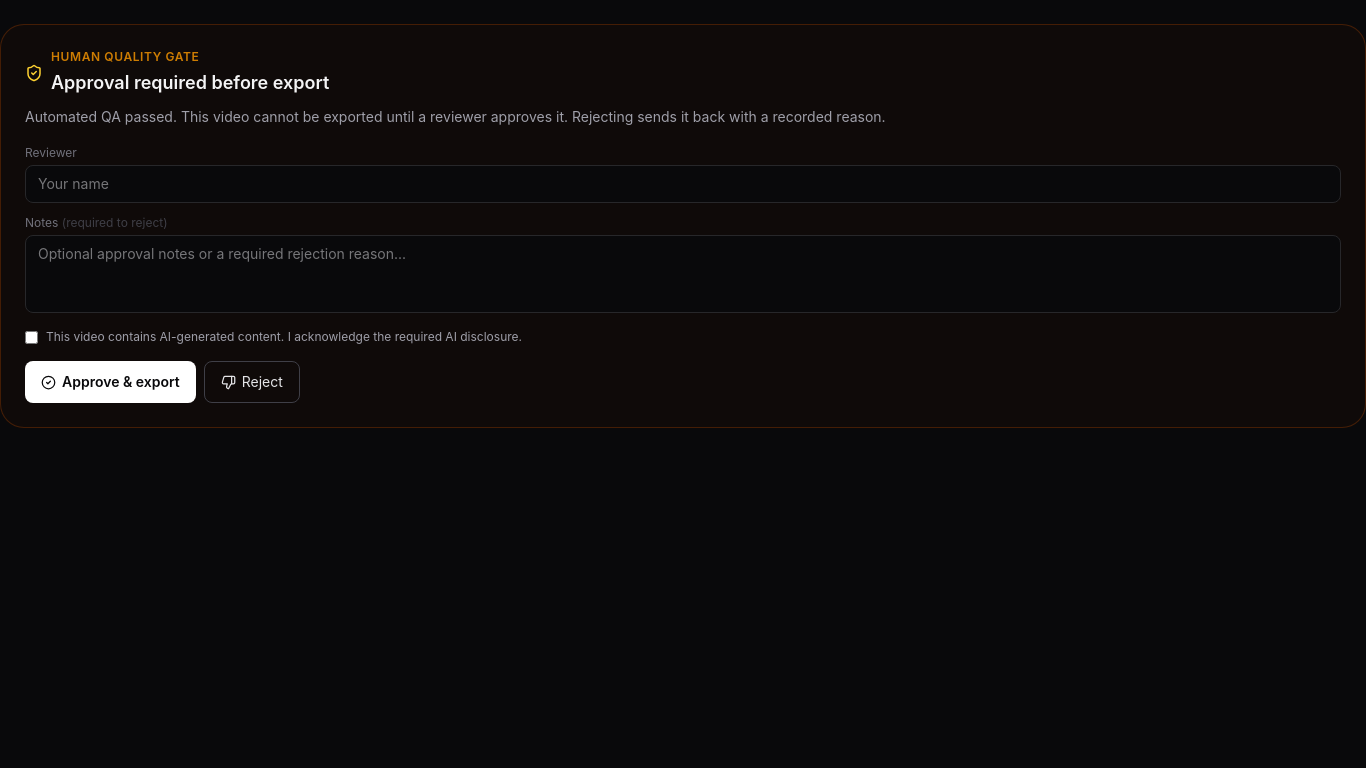
Test: ApprovalPanel › requires the AI disclosure to be acknowledged before approving
Type "Alex" into the field with placeholder "Your name" at (683, 184), box x1=25 y1=165 x2=1341 y2=203
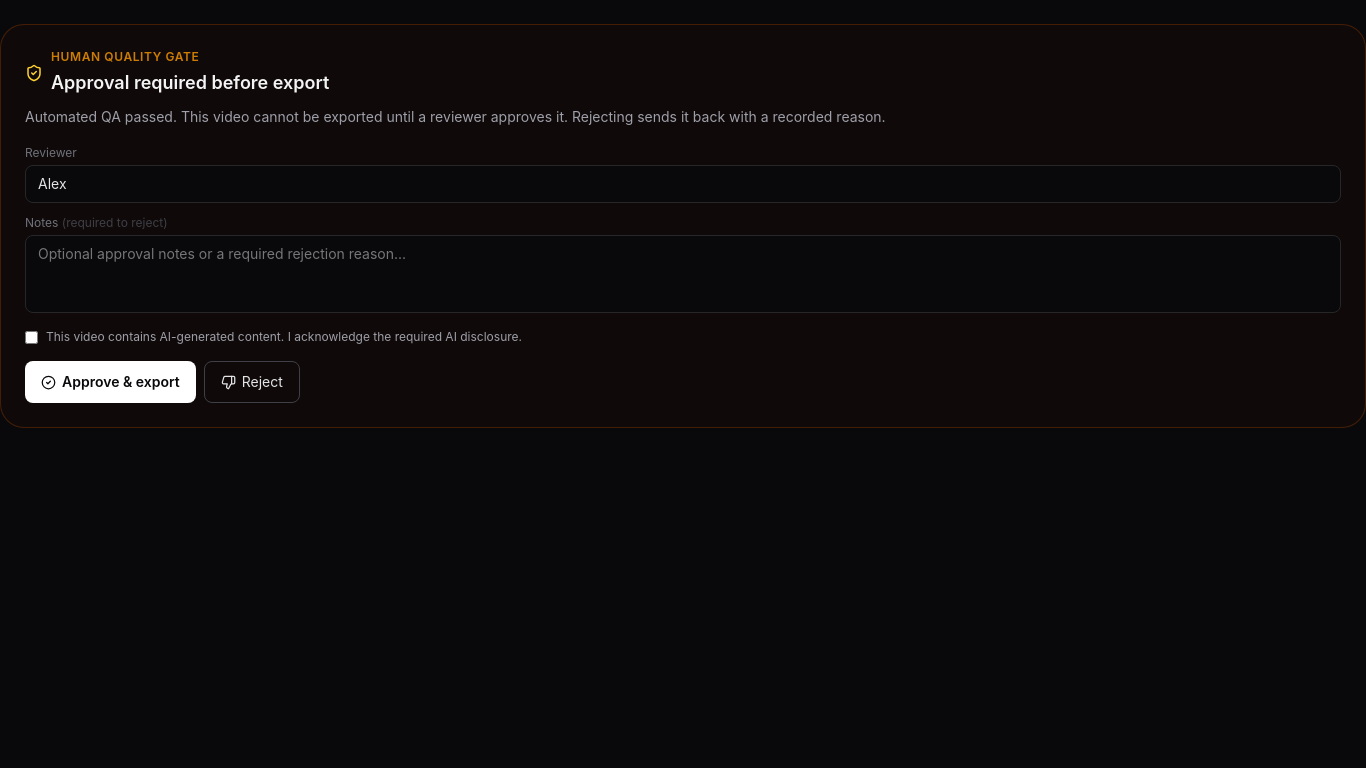
Click the button "Approve & export" at (110, 382), box x1=25 y1=361 x2=196 y2=403
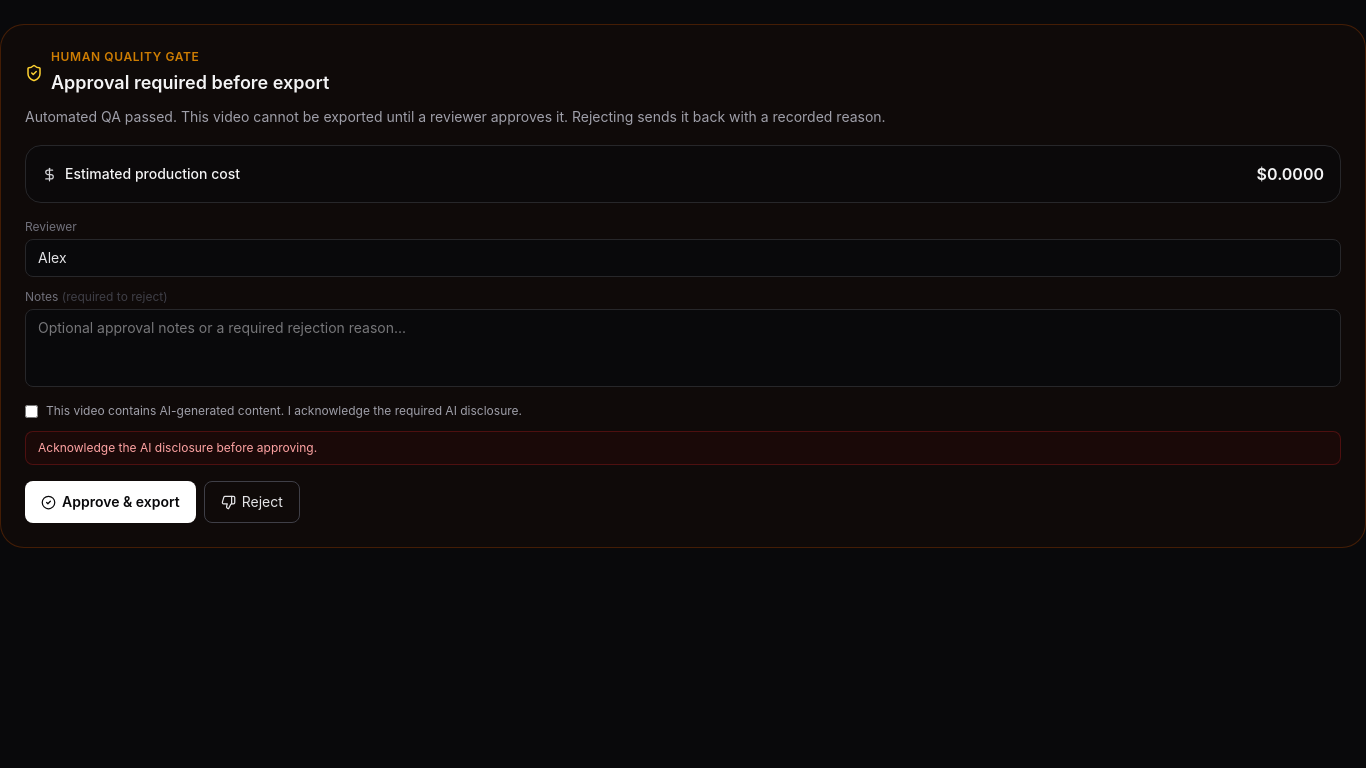
Check: the text "Acknowledge the AI disclosure before approving." is shown, box x1=25 y1=431 x2=1341 y2=465
